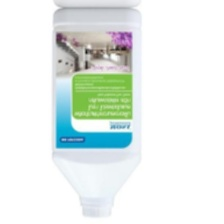cleaning_solution: (48, 4, 143, 220)
